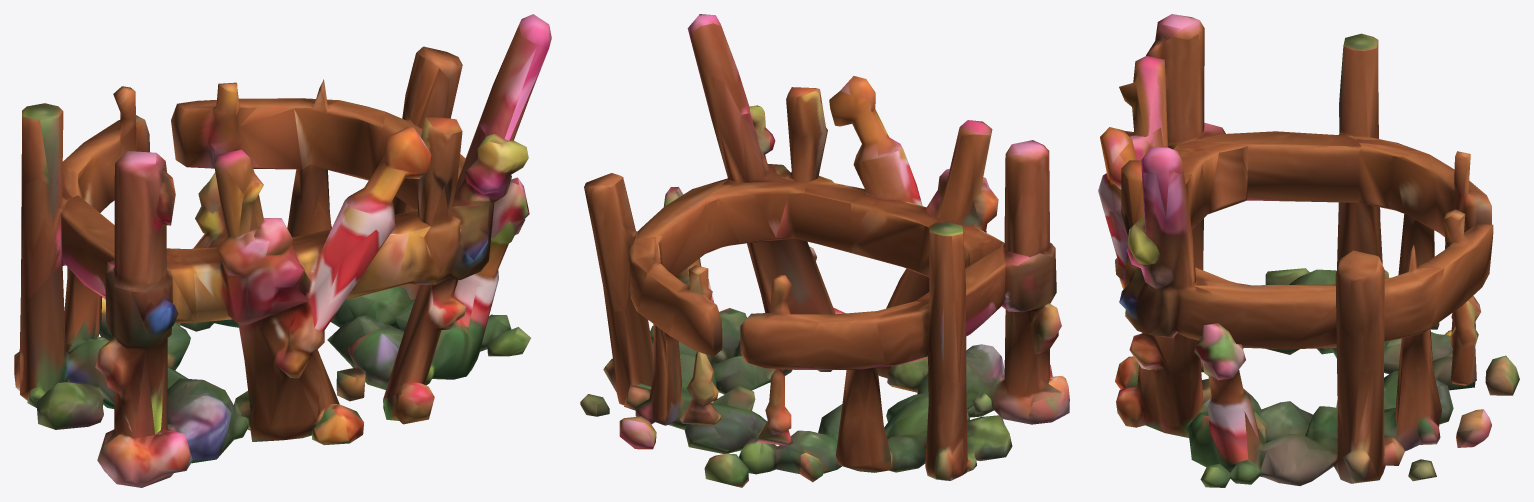
File: CF_RingFence.fbx
3 renders of one model, left to right at view 1: azimuth 30°, elevation 25°; view 2: azimuth 150°, elevation 25°; view 3: azimuth 270°, elevation 25°, orthographic. The views are drawn at different scales.
Parts seen in each view (by area): view 1: CF_RingFence; view 2: CF_RingFence; view 3: CF_RingFence.
Boxes of the visible parts, box(x1,y1,x2,y2) form: CF_RingFence: box(14, 14, 551, 487); CF_RingFence: box(580, 14, 1069, 487); CF_RingFence: box(1098, 14, 1519, 487).
Size of the model in its own units: 5.01 by 3.83 by 4.28.
